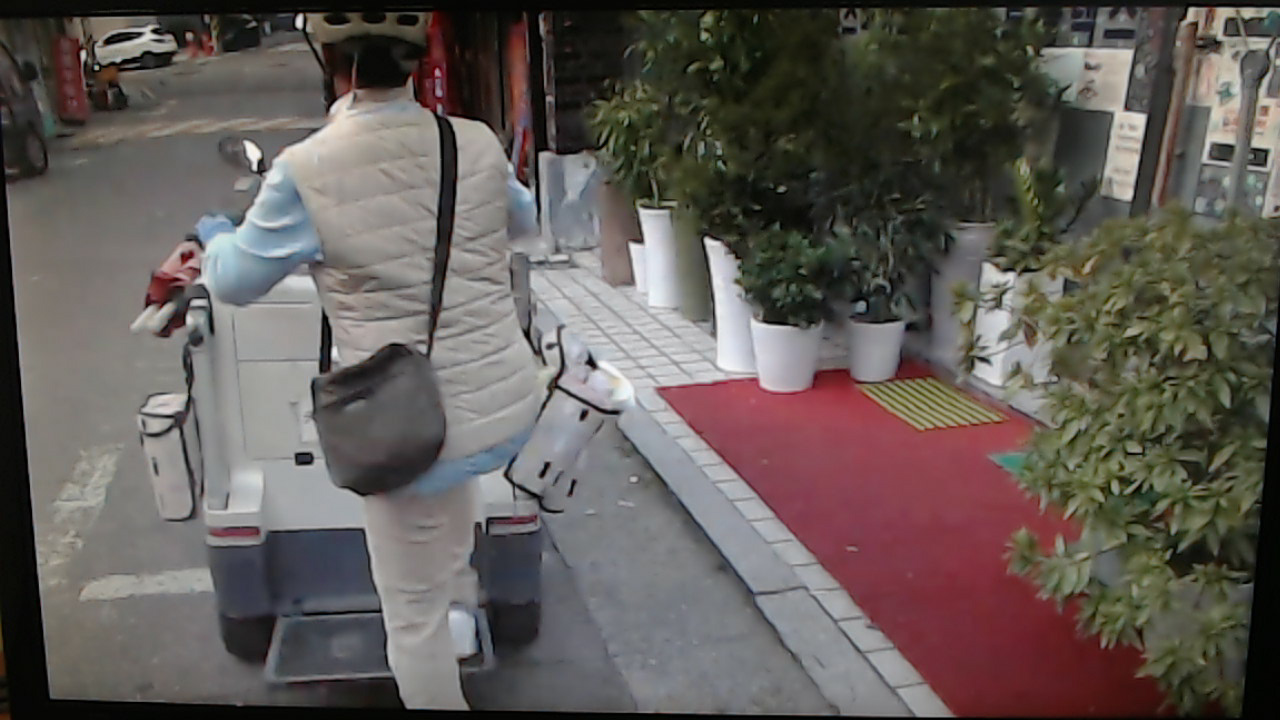Yakurut: (181, 15, 617, 713)
